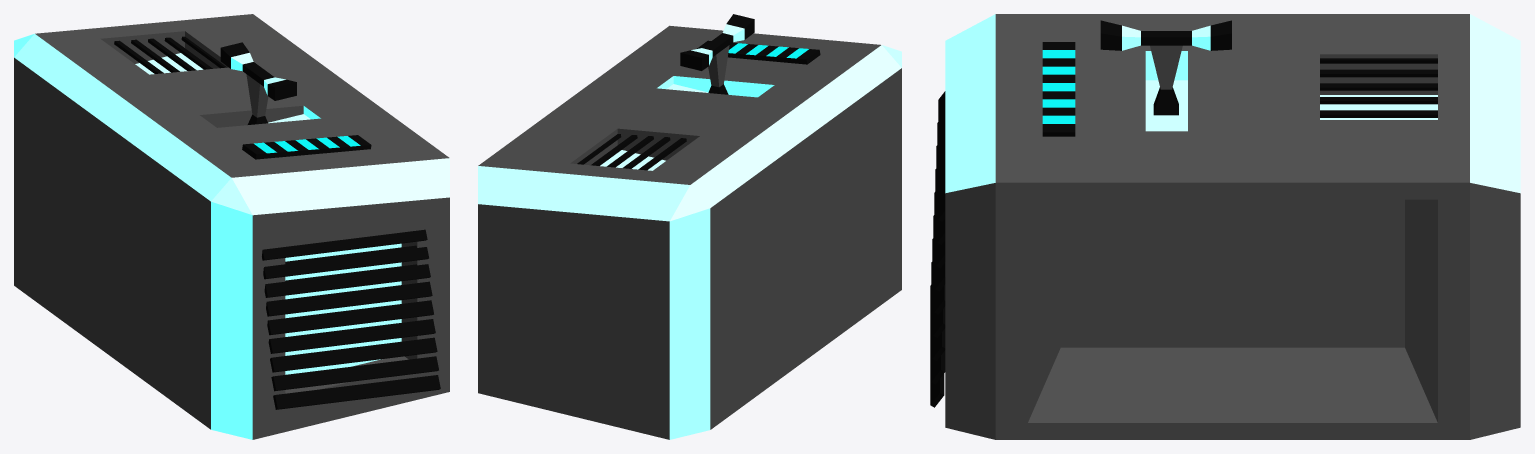
Rendered from panel.fbx.
3 renders of one model, left to right at view 1: azimuth 30°, elevation 25°; view 2: azimuth 150°, elevation 25°; view 3: azimuth 270°, elevation 25°, orthographic. The views are drawn at different scales.
Visible parts, largest first — view 1: Cube.008, Cube.010, Cube.013, Cube.012, Cube.011; view 2: Cube.008, Cube.013, Cube.011, Cube.012; view 3: Cube.008, Cube.011, Cube.013, Cube.010, Cube.012.
Part boxes in pixels (<box>): Cube.008: <box>14,14,449,439</box>; Cube.010: <box>262,229,440,409</box>; Cube.013: <box>220,42,296,124</box>; Cube.012: <box>242,135,371,159</box>; Cube.011: <box>114,36,226,73</box>; Cube.008: <box>478,25,901,439</box>; Cube.013: <box>680,14,754,94</box>; Cube.011: <box>577,134,686,170</box>; Cube.012: <box>697,40,820,64</box>; Cube.008: <box>945,14,1520,439</box>; Cube.011: <box>1320,58,1437,117</box>; Cube.013: <box>1100,20,1231,115</box>; Cube.010: <box>930,91,945,407</box>; Cube.012: <box>1042,42,1075,136</box>.
Size of the model in its own units: 1.28 by 1.45 by 2.26.
